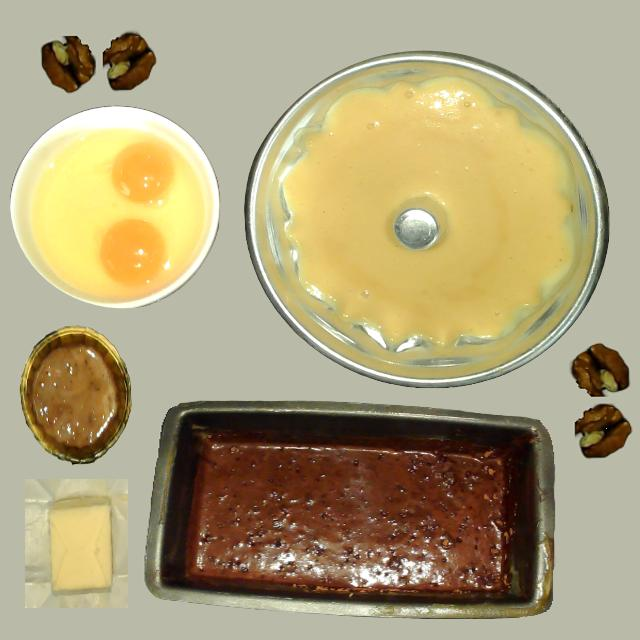Egg: (100, 220, 167, 285), (110, 142, 175, 204)
